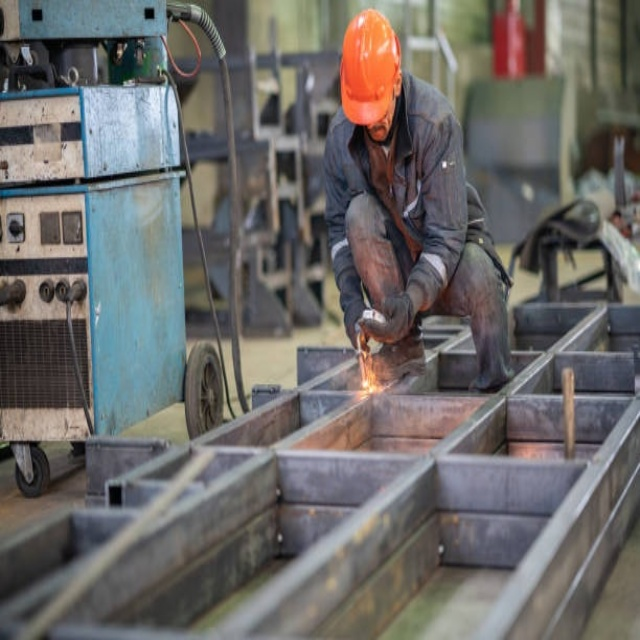Guantes: (356, 289, 414, 345)
